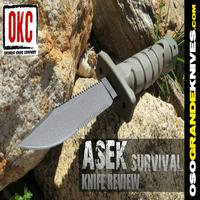knife: (10, 40, 184, 148)
